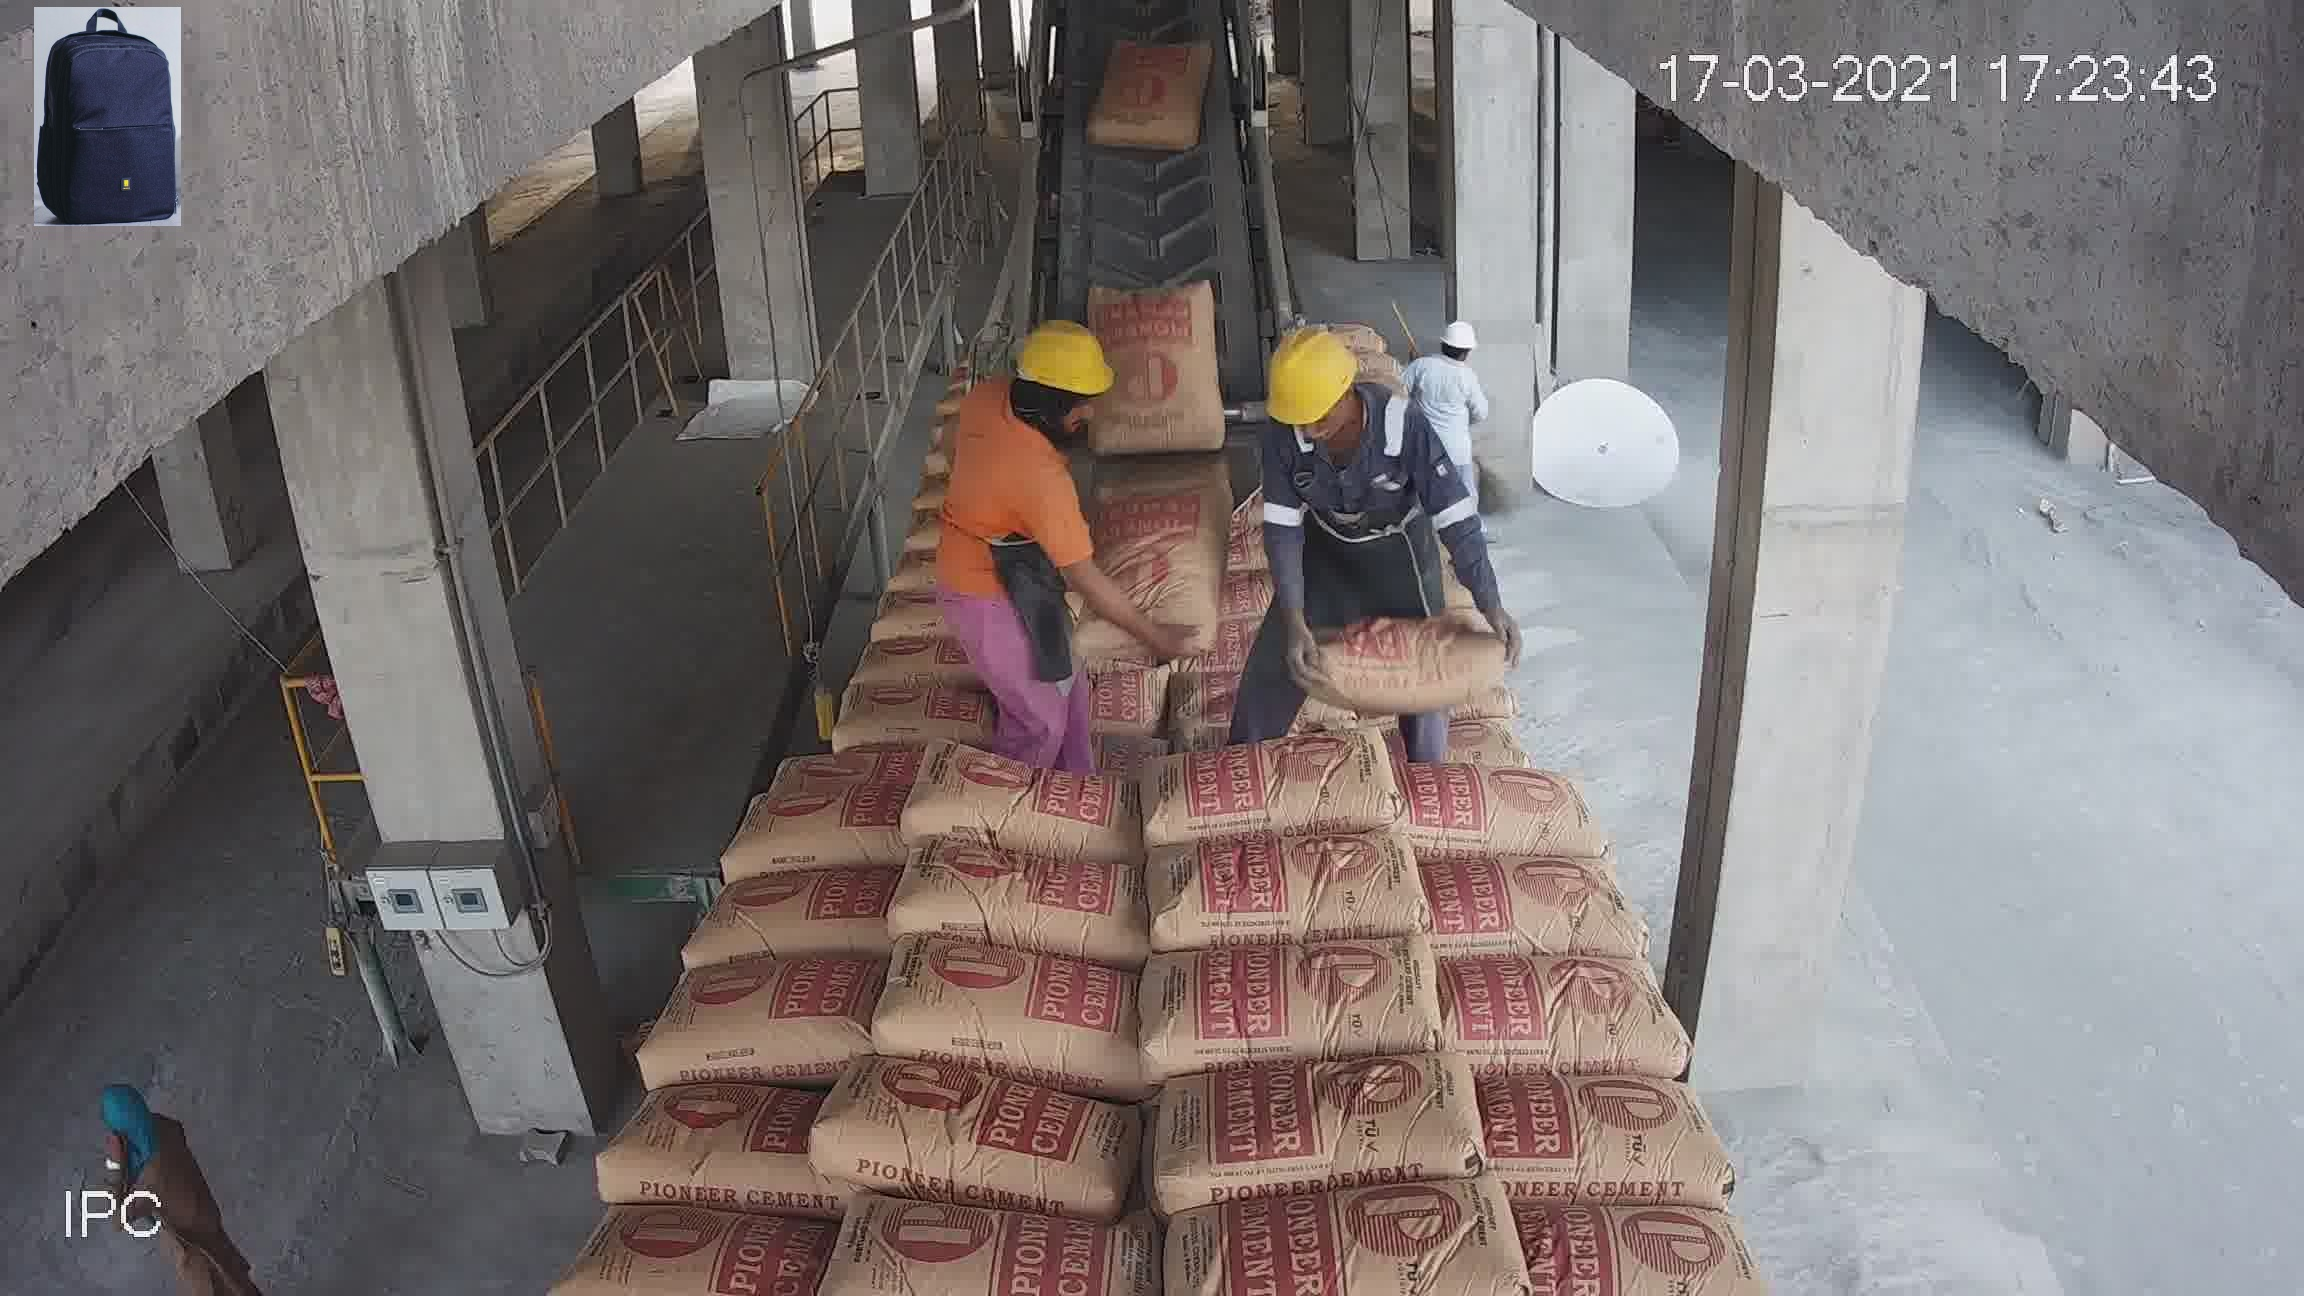bag: (1040, 14, 1245, 361), (1120, 302, 1217, 411), (1097, 40, 1204, 125)
bag_h: (1158, 1043, 1475, 1195), (1139, 1161, 1492, 1283), (1179, 932, 1451, 1082), (839, 1048, 1157, 1171), (1161, 828, 1431, 964), (1437, 957, 1669, 1097), (1139, 731, 1400, 855), (571, 1078, 826, 1203), (1465, 1201, 1780, 1296), (897, 842, 1149, 956), (798, 1209, 1152, 1290), (1492, 1076, 1696, 1207), (508, 1214, 832, 1296), (650, 965, 875, 1079), (869, 957, 1138, 1051), (1128, 673, 1388, 764), (1155, 567, 1358, 680), (1337, 685, 1570, 782), (668, 866, 894, 964), (1397, 859, 1631, 943), (711, 790, 897, 888), (923, 764, 1117, 855), (771, 639, 956, 726), (1143, 479, 1340, 554), (938, 688, 1149, 758), (1413, 775, 1605, 850), (942, 616, 1166, 679), (775, 578, 957, 654), (748, 717, 916, 793), (1370, 620, 1548, 692), (815, 521, 983, 590), (954, 565, 1166, 619), (1143, 533, 1339, 590), (1353, 562, 1522, 623), (1332, 513, 1484, 578), (1040, 441, 1165, 514), (983, 513, 1149, 554), (1378, 486, 1461, 532), (1351, 451, 1448, 483)
